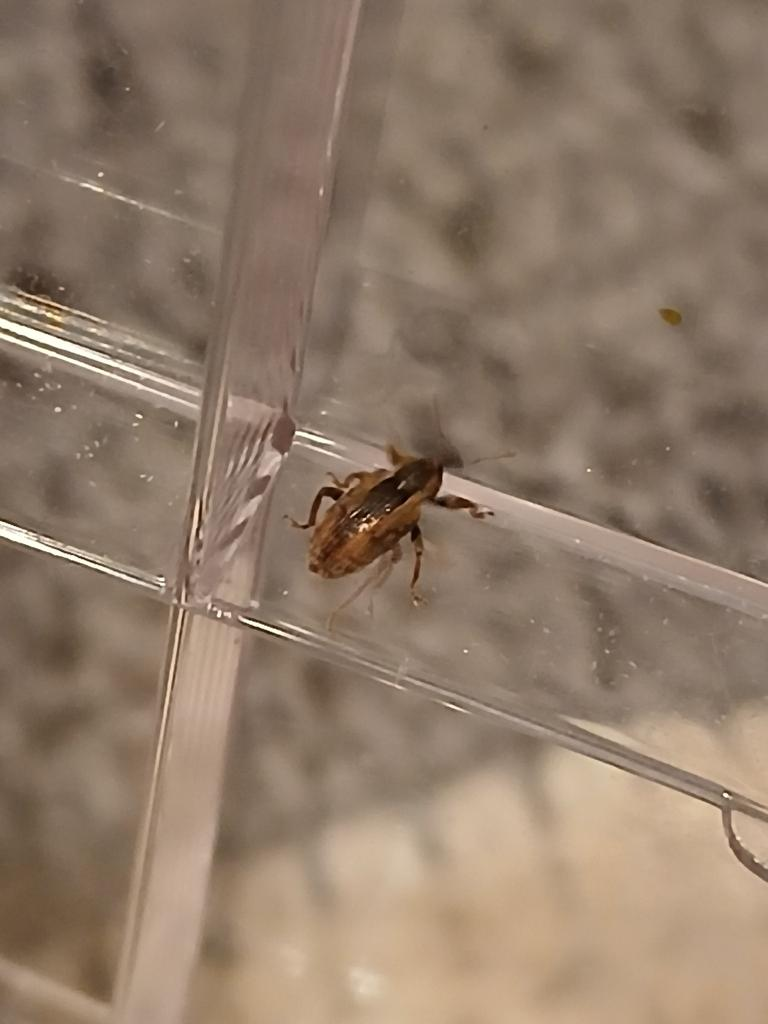weevils: (241, 361, 537, 634)
